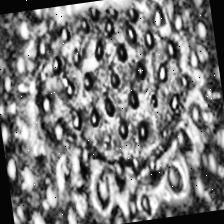Anthracnose Fruit Rot: (13, 0, 224, 194)
